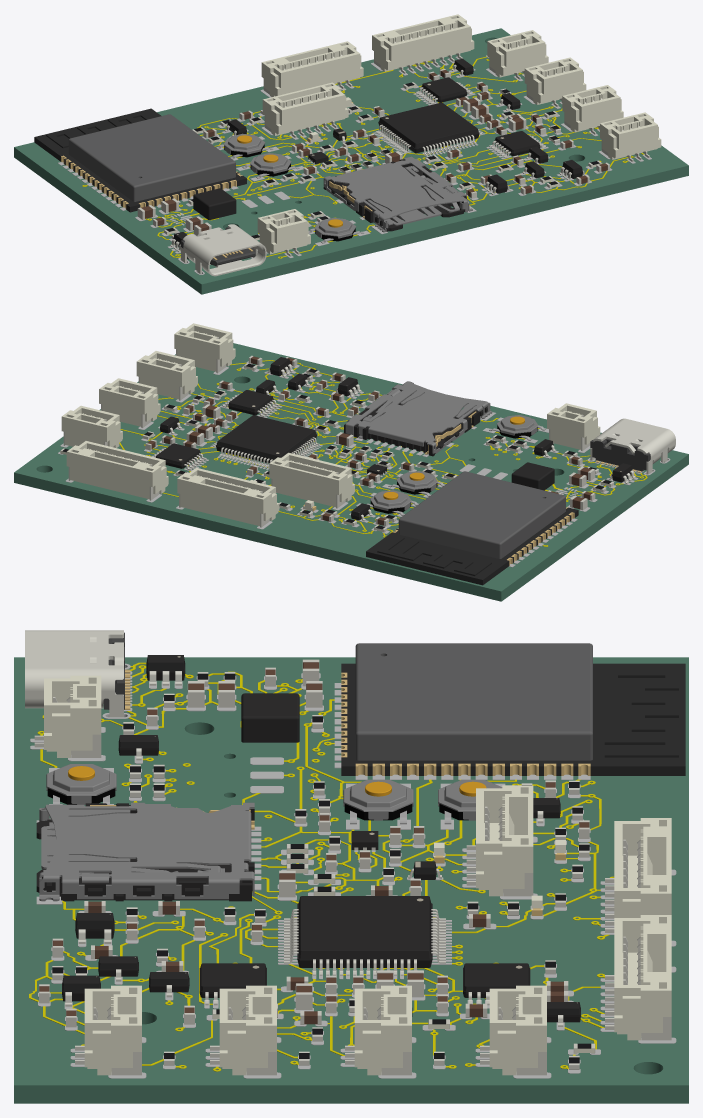
File: main.glb
The picture shows the model from 3 angles, top to bottom: view 1: azimuth 30°, elevation 25°; view 2: azimuth 150°, elevation 25°; view 3: azimuth 270°, elevation 25°; orthographic projection. The views are drawn at different scales.
Parts seen in each view (by area): view 1: =>[0:1:1:45], =>[0:1:1:41], =>[0:1:1:11] (×4), =>[0:1:1:15] (×2), =>[0:1:1:5], =>[0:1:1:43], =>[0:1:1:42], =>[0:1:1:37], =>[0:1:1:9], =>[0:1:1:33], =>[0:1:1:23] (×3), =>[0:1:1:39] (+2 smaller); view 2: =>[0:1:1:45], =>[0:1:1:41], =>[0:1:1:11] (×4), =>[0:1:1:15] (×2), =>[0:1:1:5], =>[0:1:1:43], =>[0:1:1:42], =>[0:1:1:37], =>[0:1:1:9], =>[0:1:1:33], =>[0:1:1:23] (×3), =>[0:1:1:39] (+2 smaller); view 3: =>[0:1:1:45], =>[0:1:1:41], =>[0:1:1:11] (×4), =>[0:1:1:5], =>[0:1:1:43], =>[0:1:1:15] (×2), =>[0:1:1:42], =>[0:1:1:37], =>[0:1:1:23] (×3), =>[0:1:1:9], =>[0:1:1:33], =>[0:1:1:39] (+5 smaller).
Boxes of the visible parts, bbox=[...] form: =>[0:1:1:45]: bbox=[14, 28, 688, 294]; =>[0:1:1:41]: bbox=[34, 108, 246, 212]; =>[0:1:1:11] (×4): bbox=[487, 30, 661, 161]; =>[0:1:1:15] (×2): bbox=[261, 14, 474, 96]; =>[0:1:1:5]: bbox=[323, 156, 472, 232]; =>[0:1:1:43]: bbox=[58, 55, 651, 274]; =>[0:1:1:42]: bbox=[82, 56, 644, 258]; =>[0:1:1:37]: bbox=[375, 102, 482, 155]; =>[0:1:1:9]: bbox=[262, 82, 348, 137]; =>[0:1:1:33]: bbox=[180, 224, 266, 276]; =>[0:1:1:23] (×3): bbox=[216, 133, 364, 243]; =>[0:1:1:39]: bbox=[257, 209, 310, 256]; =>[0:1:1:45]: bbox=[14, 343, 688, 601]; =>[0:1:1:41]: bbox=[366, 471, 578, 585]; =>[0:1:1:11] (×4): bbox=[61, 323, 235, 447]; =>[0:1:1:15] (×2): bbox=[66, 441, 279, 527]; =>[0:1:1:5]: bbox=[344, 381, 492, 456]; =>[0:1:1:43]: bbox=[58, 361, 670, 567]; =>[0:1:1:42]: bbox=[119, 360, 647, 546]; =>[0:1:1:37]: bbox=[213, 415, 319, 468]; =>[0:1:1:9]: bbox=[269, 452, 354, 508]; =>[0:1:1:33]: bbox=[590, 418, 675, 474]; =>[0:1:1:23] (×3): bbox=[366, 415, 545, 515]; =>[0:1:1:39]: bbox=[547, 403, 600, 450]; =>[0:1:1:45]: bbox=[14, 657, 688, 1103]; =>[0:1:1:41]: bbox=[341, 643, 685, 775]; =>[0:1:1:11] (×4): bbox=[75, 985, 546, 1075]; =>[0:1:1:5]: bbox=[36, 802, 254, 901]; =>[0:1:1:43]: bbox=[30, 663, 676, 1078]; =>[0:1:1:15] (×2): bbox=[605, 818, 671, 1040]; =>[0:1:1:42]: bbox=[29, 662, 614, 1071]; =>[0:1:1:37]: bbox=[284, 896, 445, 975]; =>[0:1:1:23] (×3): bbox=[46, 764, 502, 824]; =>[0:1:1:9]: bbox=[466, 785, 533, 896]; =>[0:1:1:33]: bbox=[25, 630, 130, 717]; =>[0:1:1:39]: bbox=[34, 675, 101, 757].
Bounding box in the file's own units: 0.075 × 0.00583 × 0.05.
